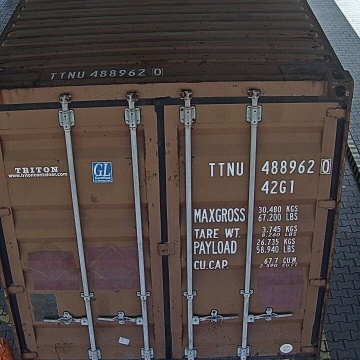serial_id: (209, 159, 331, 176)
